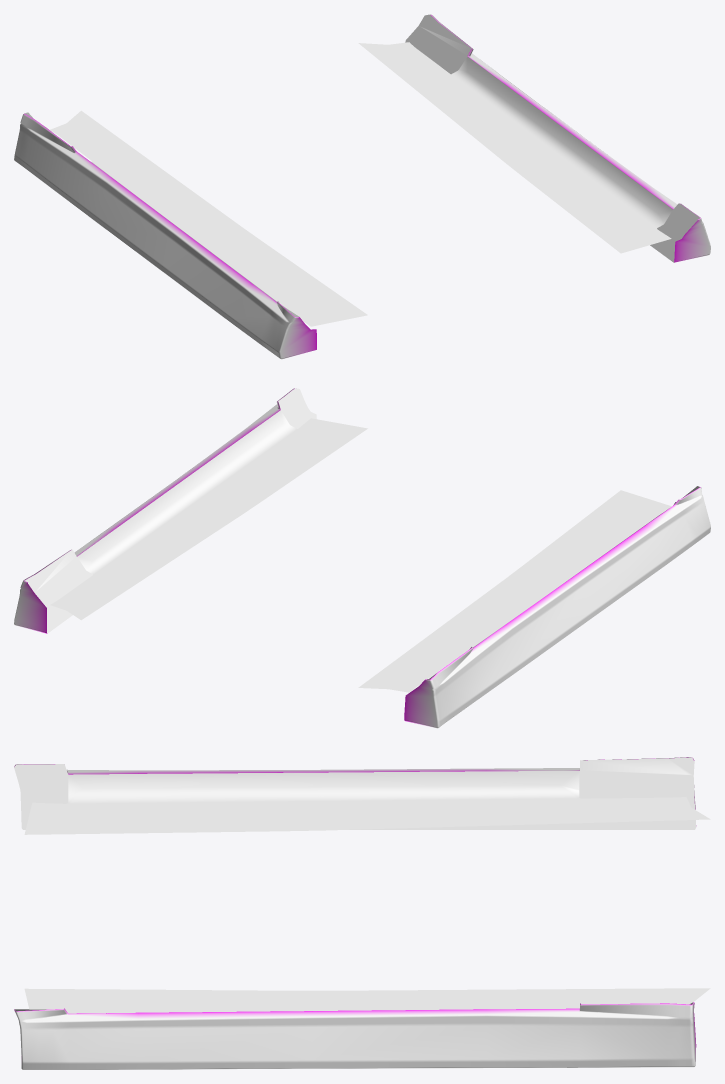
File: Car_Buick_GrandNational_1987_Skirts_SetE.fbx
The picture shows the model from 3 angles, top to bottom: view 1: azimuth 30°, elevation 25°; view 2: azimuth 150°, elevation 25°; view 3: azimuth 270°, elevation 25°; orthographic projection. The views are drawn at different scales.
Visible parts, largest first — view 1: Skirts 6; view 2: Skirts 6; view 3: Skirts 6.
Boxes of the visible parts, bbox=[...] form: Skirts 6: bbox=[14, 14, 710, 359]; Skirts 6: bbox=[14, 388, 710, 728]; Skirts 6: bbox=[14, 757, 710, 1069].
Size of the model in its own units: 1.74 by 0.1811 by 1.95.
